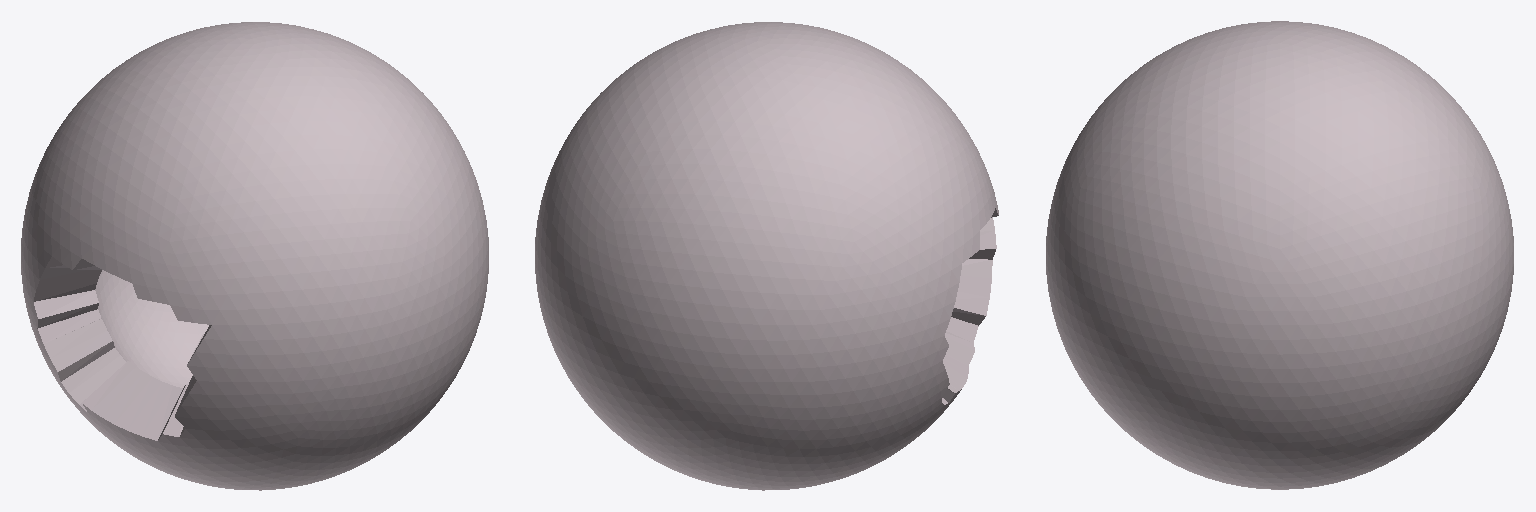
File: clouds_1.obj
3 views of the same model, side by side, from view 1: azimuth 30°, elevation 25°; view 2: azimuth 150°, elevation 25°; view 3: azimuth 270°, elevation 25° (orthographic).
Parts seen in each view (by area): view 1: Icosphere.026; view 2: Icosphere.026; view 3: Icosphere.026.
Boxes of the visible parts, <box> form: Icosphere.026: <box>21,22,488,490</box>; Icosphere.026: <box>535,22,998,490</box>; Icosphere.026: <box>1046,21,1513,489</box>.
Size of the model in its own units: 21.55 by 21.66 by 21.66.